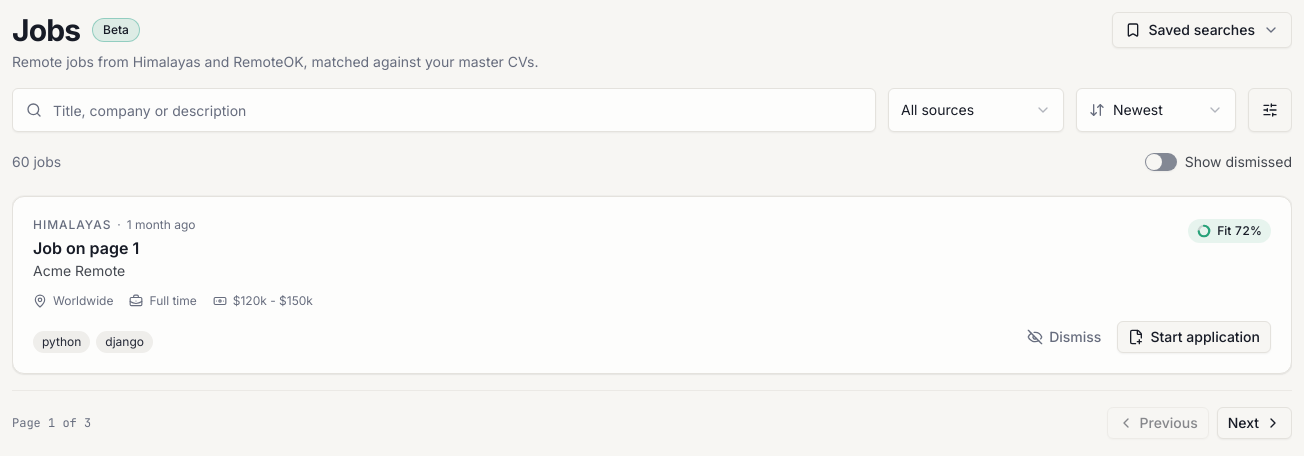
Test: /jobs: filters live in the URL (AC3, Plan corrections 17) › pages forward and back through the URL
The image size is (1304, 456).
Later steps or results of the test are not shown.
Check: the element "Job on page 1" is shown, box [12,196,1292,374]
Click the button with aria-label "Next page": {"x": 1254, "y": 423} [1217,407,1292,439]
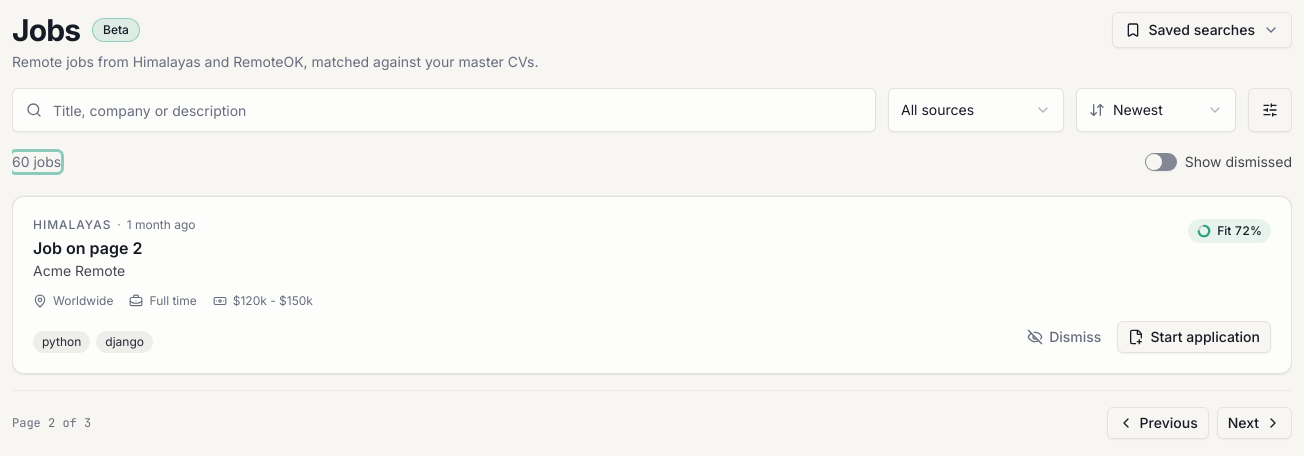
Check: the element "Job on page 2" is shown, box [12,196,1292,374]
